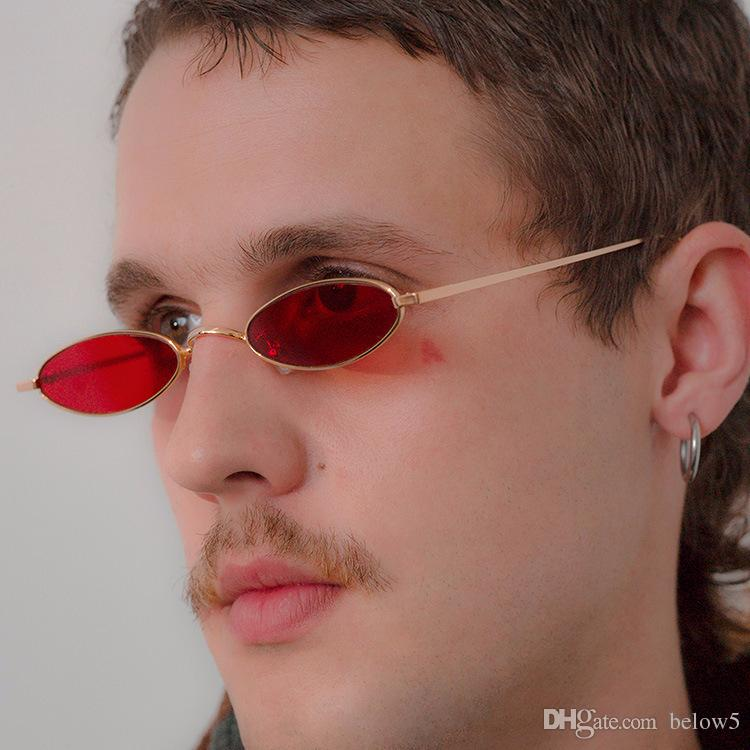sunglasses: (8, 224, 664, 416)
